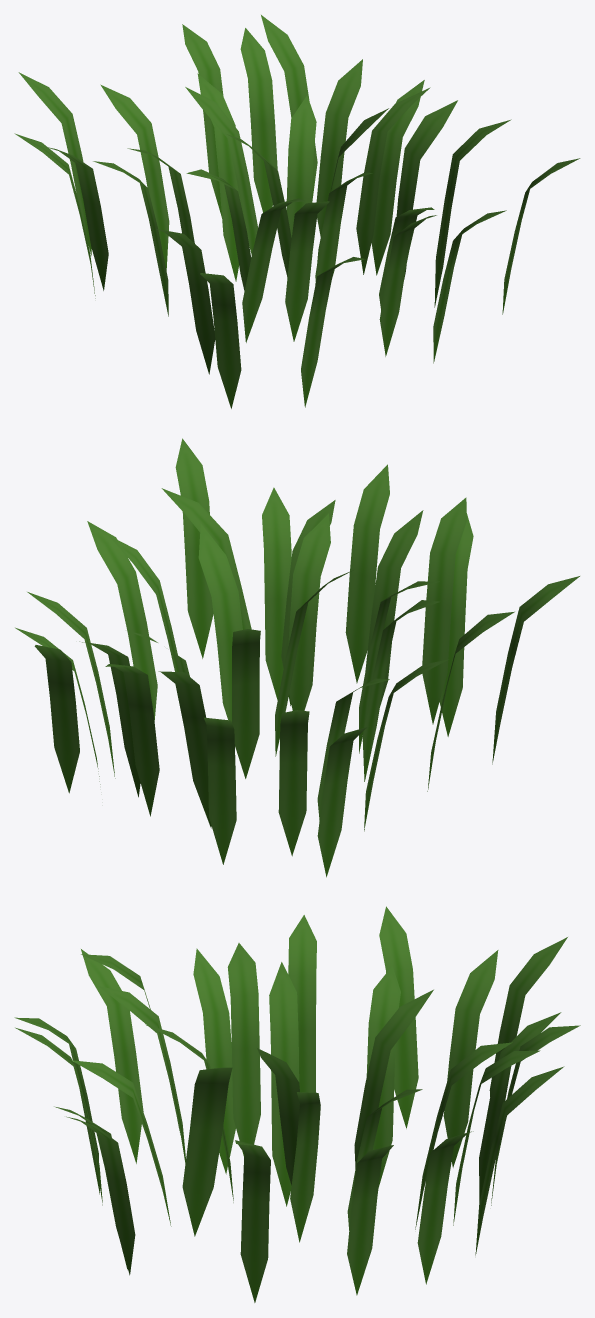
File: GrassShort.fbx
3 renders of one model, top to bottom at view 1: azimuth 30°, elevation 25°; view 2: azimuth 150°, elevation 25°; view 3: azimuth 270°, elevation 25°, orthographic. The views are drawn at different scales.
Visible parts, largest first — view 1: Grass; view 2: Grass; view 3: Grass.
Part boxes in pixels (<box>): Grass: <box>14,15,580,408</box>; Grass: <box>15,438,579,877</box>; Grass: <box>14,906,580,1302</box>.
Size of the model in its own units: 107 by 55.57 by 119.
